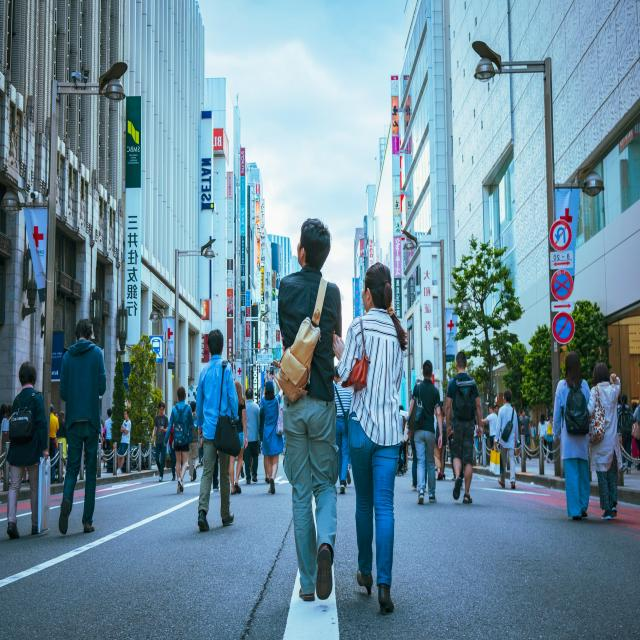adult: (340, 262, 404, 616), (286, 215, 344, 605), (57, 319, 104, 537), (196, 330, 240, 537), (6, 364, 47, 540), (552, 348, 591, 521), (408, 357, 442, 507), (591, 352, 621, 511), (452, 351, 478, 508), (163, 386, 194, 499), (260, 376, 283, 492), (498, 386, 518, 492), (243, 384, 261, 481), (152, 402, 168, 482), (116, 410, 130, 474)
